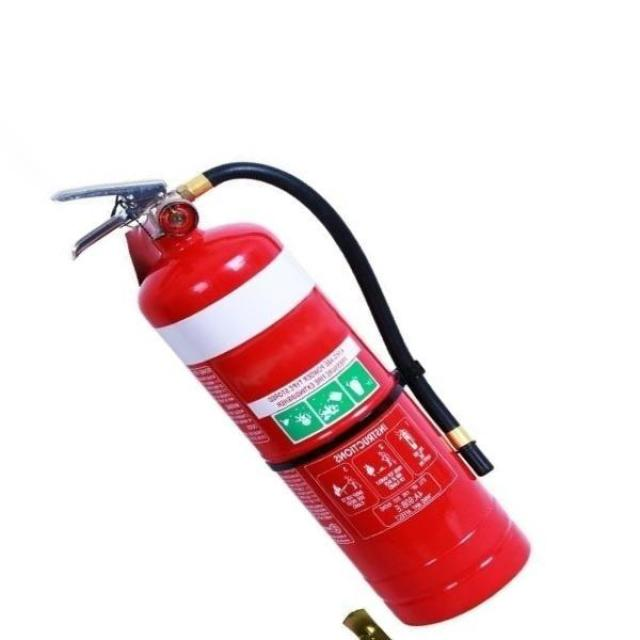fire_extinguisher: (47, 154, 535, 631)
